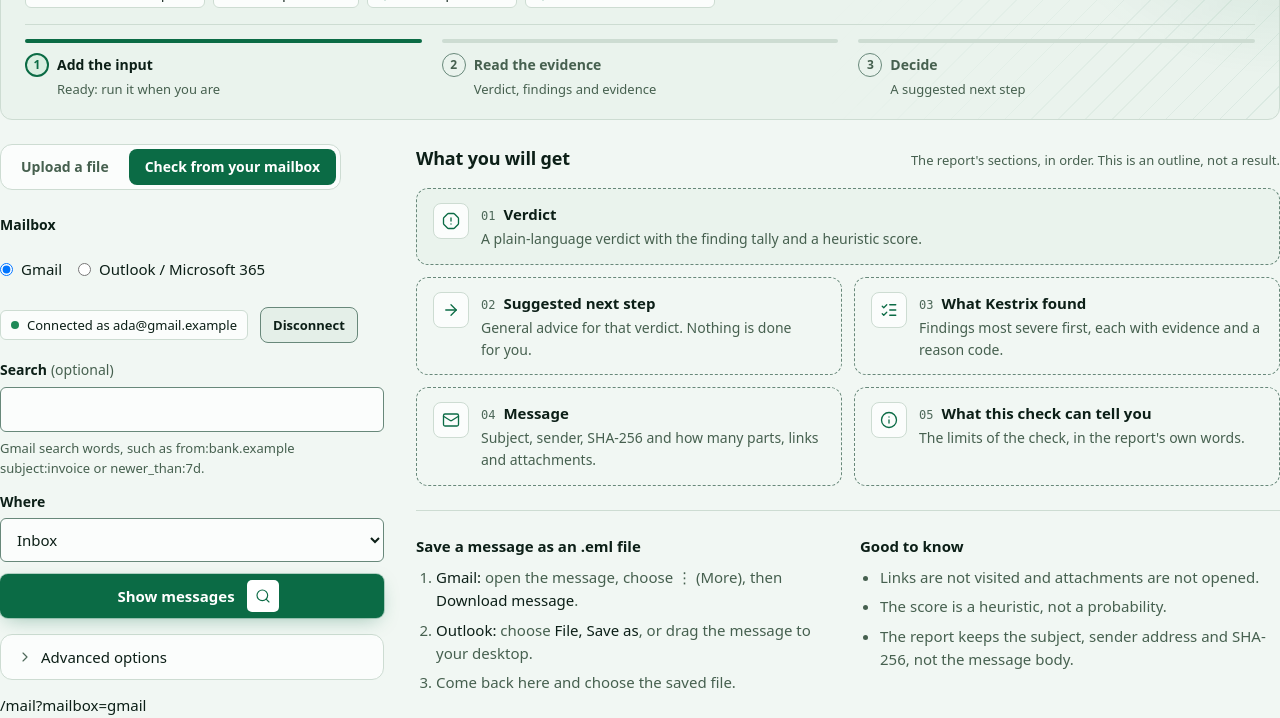
Scenario: email page with the mailbox connector (local mode) › shows a check that failed, with a retry that asks for the same message again
(page scrolled)
Click the button "Show messages": (192, 596) [0, 574, 384, 618]
(page scrolled)
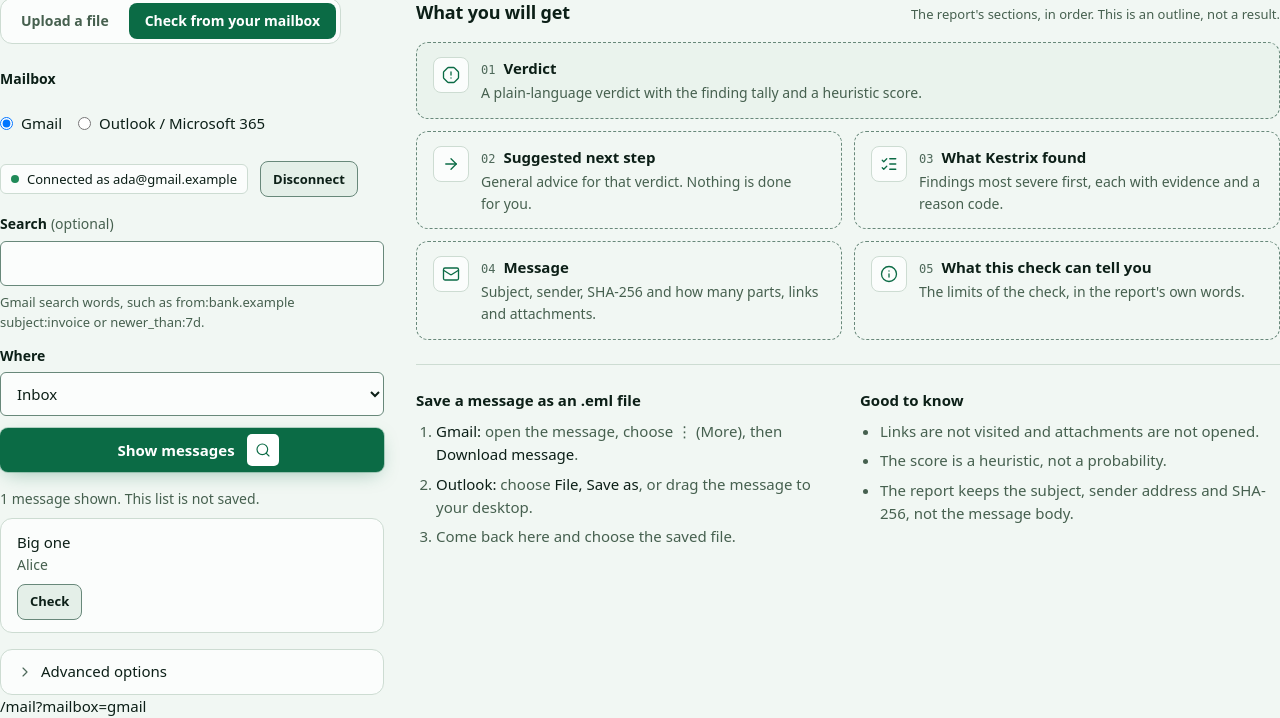
Click the button with aria-label "Check message: Big one": (50, 602) [17, 584, 82, 620]
(page scrolled)
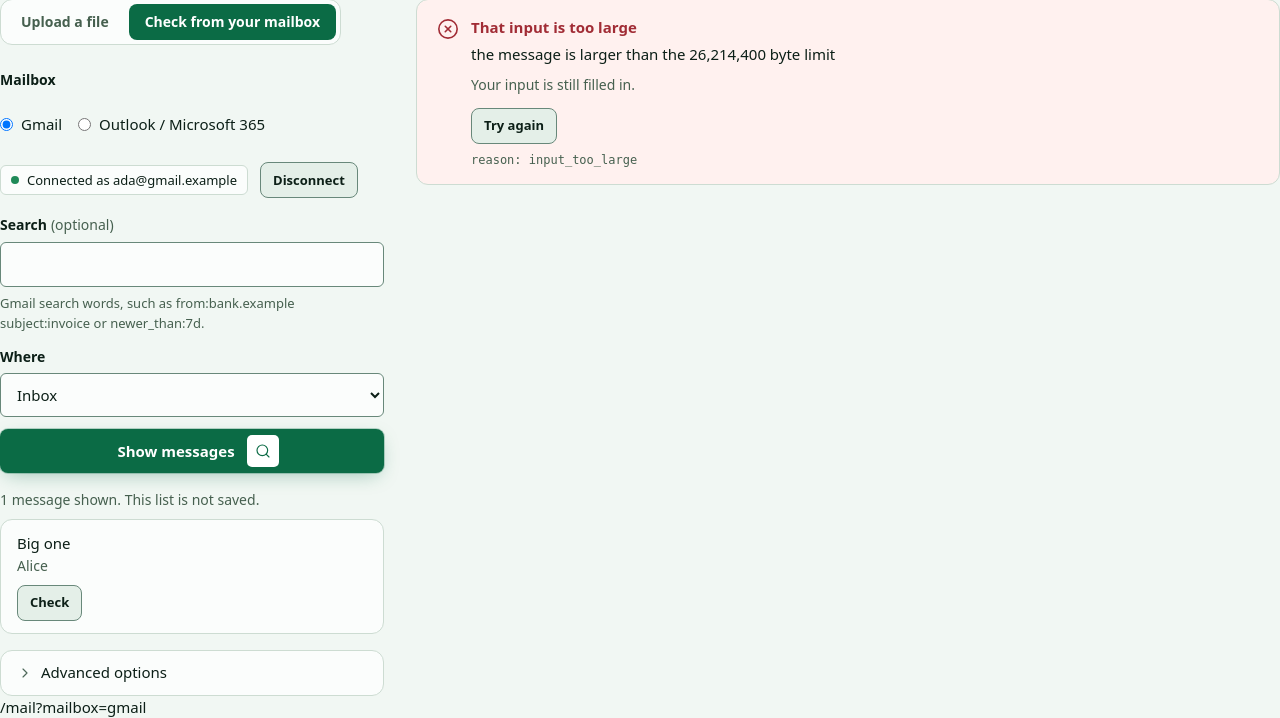
expect the text "the message is larger than the 26,214,400 byte limit" is shown: met, box [471, 43, 835, 66]
Click the button "Try again": (514, 126) [471, 108, 557, 144]
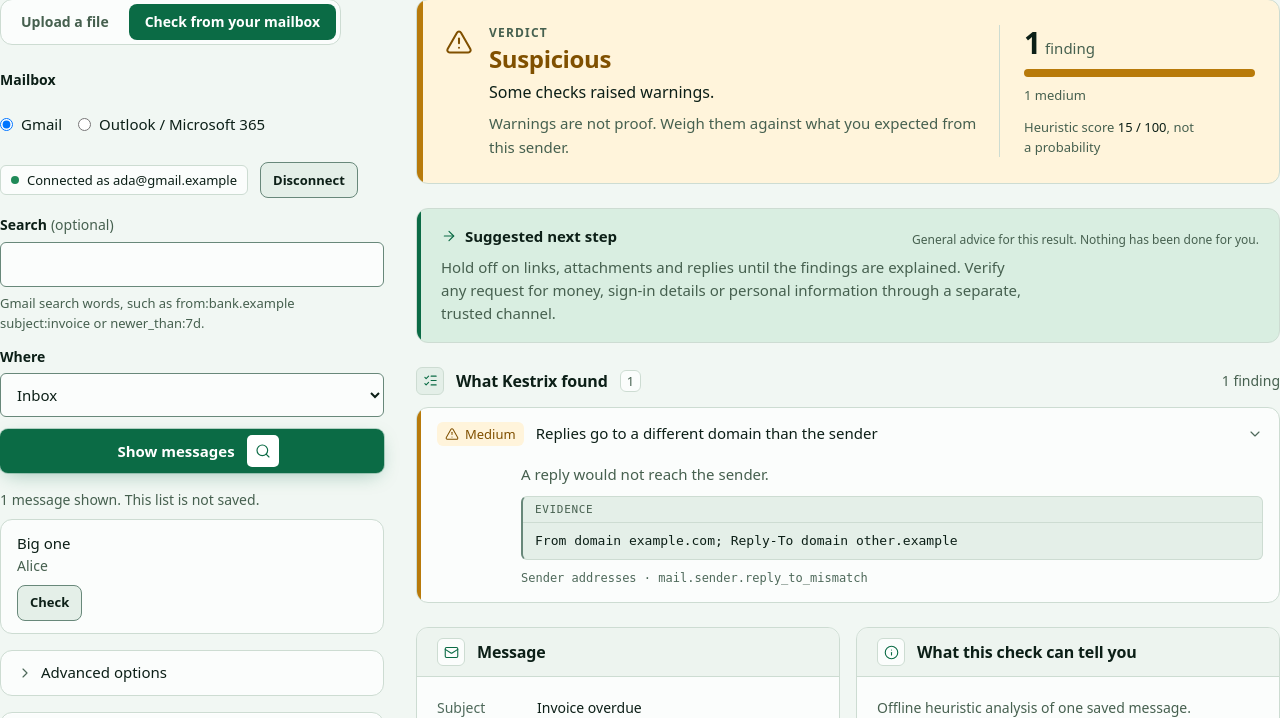
expect the heading "Suspicious" is shown: met, box [489, 42, 611, 75]
